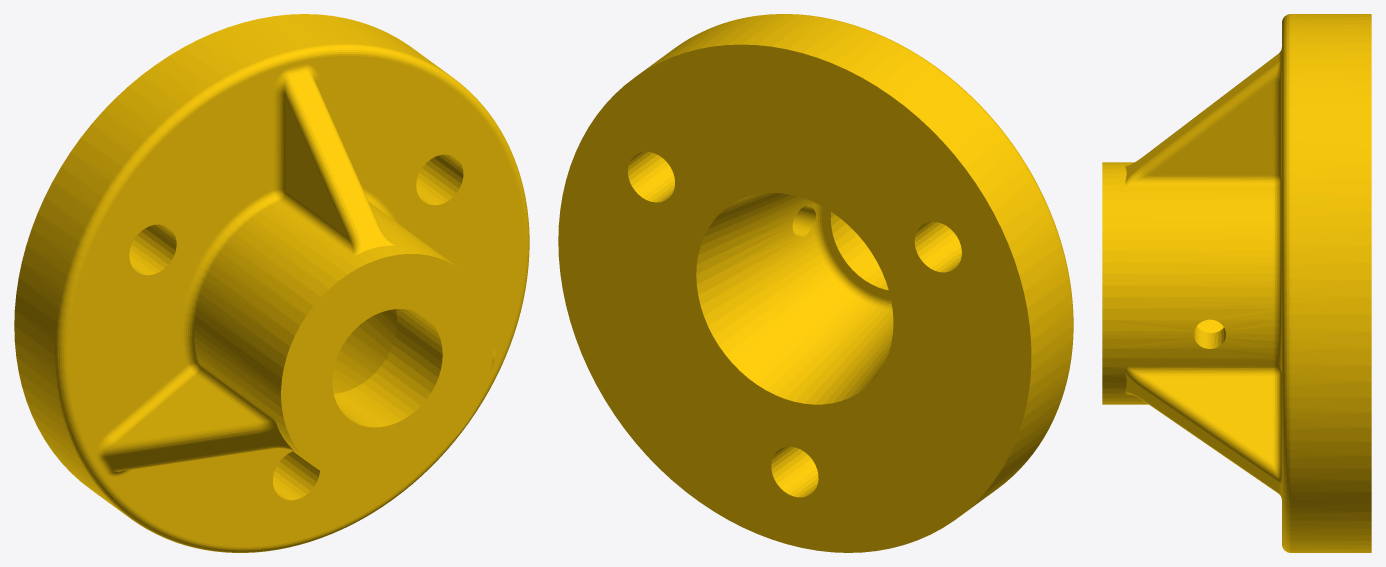
The model's file is spindle_base.glb.
The picture shows the model from 3 angles, left to right: view 1: azimuth 30°, elevation 25°; view 2: azimuth 150°, elevation 25°; view 3: azimuth 270°, elevation 25°; orthographic projection.
Visible parts, largest first — view 1: Node1; view 2: Node1; view 3: Node1.
Boxes of the visible parts, bbox=[...] form: Node1: bbox=[14, 14, 529, 552]; Node1: bbox=[558, 14, 1073, 552]; Node1: bbox=[1102, 14, 1371, 552].
Size of the model in its own units: 300 by 300 by 150.
